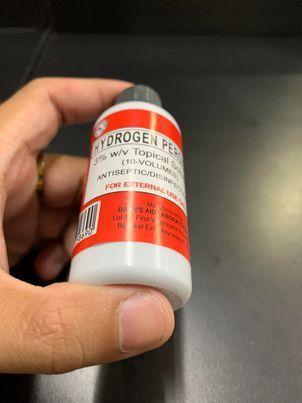-Bottle-: (67, 85, 192, 310)
